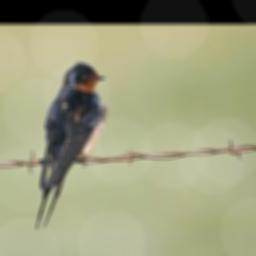Swallow: (31, 59, 106, 230)
